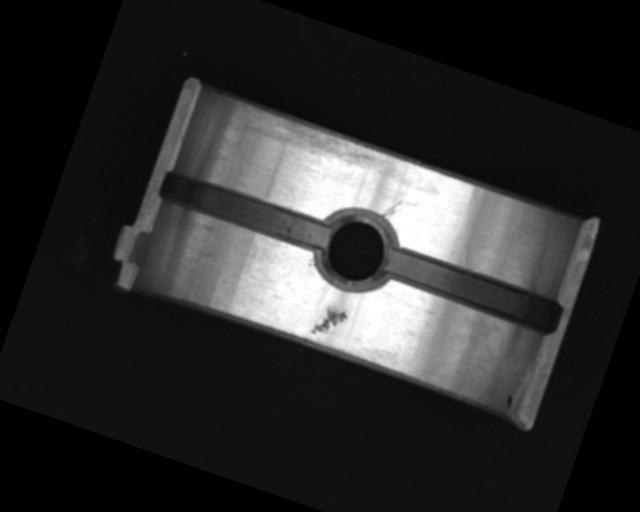blot: (502, 392, 517, 411)
bruise: (307, 298, 351, 344)
gap: (379, 242, 564, 336), (155, 165, 334, 255)
hole: (306, 200, 405, 298)
nick: (380, 196, 402, 222)
scratch: (231, 97, 393, 182)
